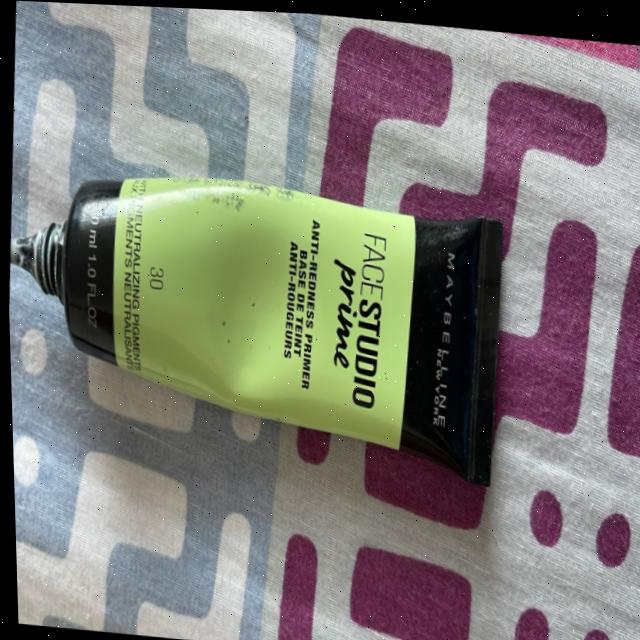primer: (3, 128, 529, 495)
